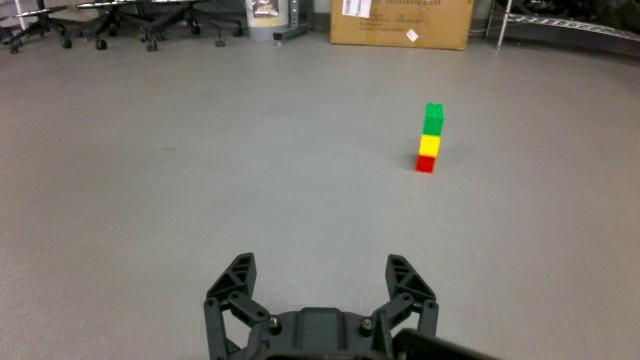lego: (414, 101, 447, 174)
